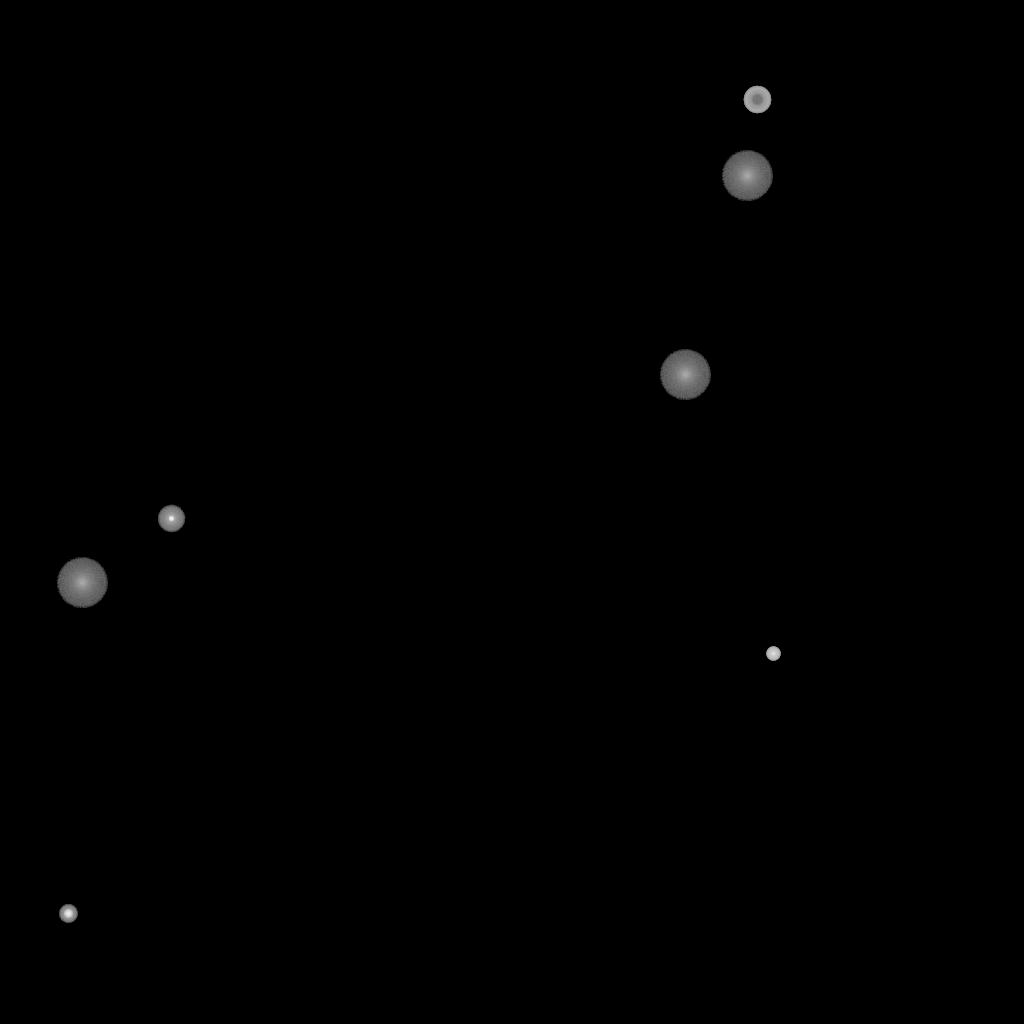depth:-10: (157, 505, 185, 533)
depth:-20: (59, 905, 77, 923)
depth:-30: (766, 647, 780, 661)
depth:-50: (743, 86, 771, 114)
depth:20: (56, 558, 108, 608), (721, 151, 773, 201), (659, 350, 711, 400)
